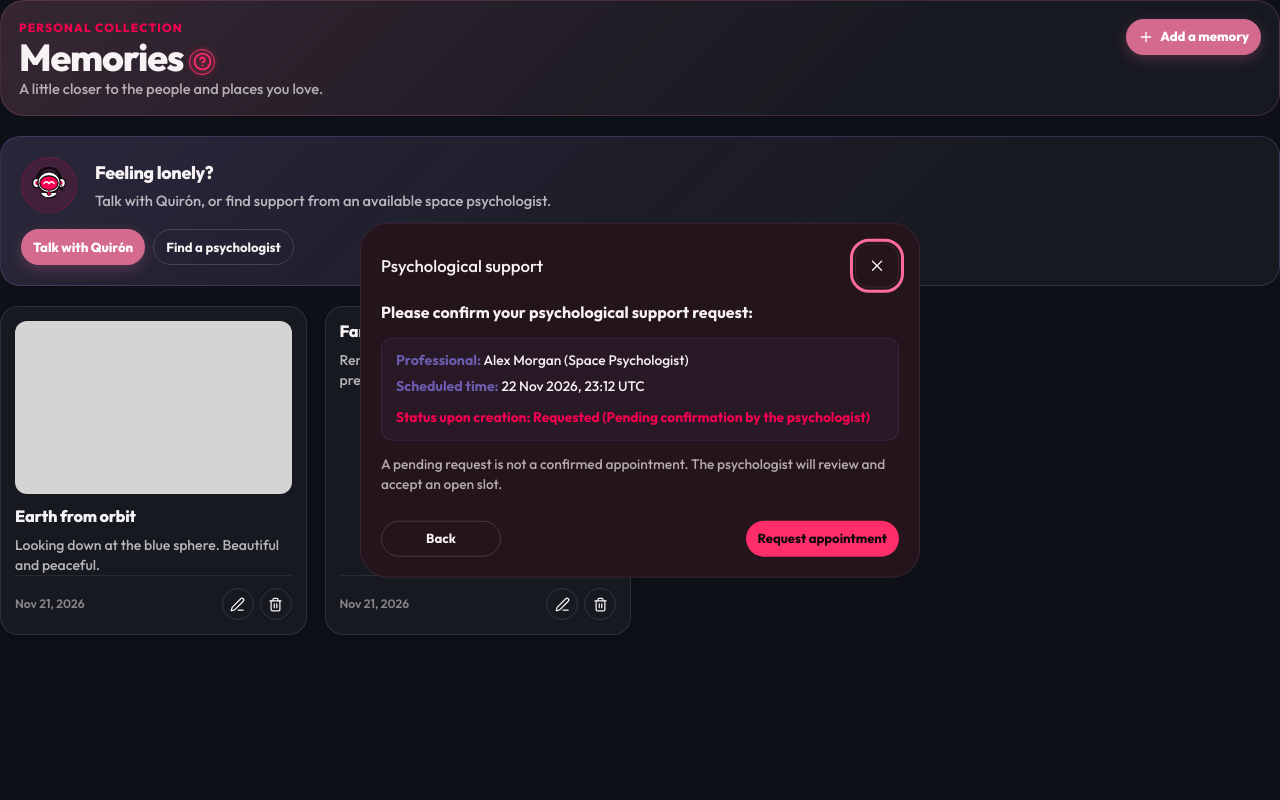
MemoriesPage › finds available psychologist, picks slot, and requests appointment with confirmation
The width and height of the screenshot is (1280, 800).
Earlier steps of the test are not shown.
Check: the text "Please confirm your psychological support request:" is shown, box [381,302,753,322]
Check: the text "Status upon creation: Requested" is shown, box [396,408,870,426]
Click the button "Request appointment" at (822,538), box [746,520,899,556]
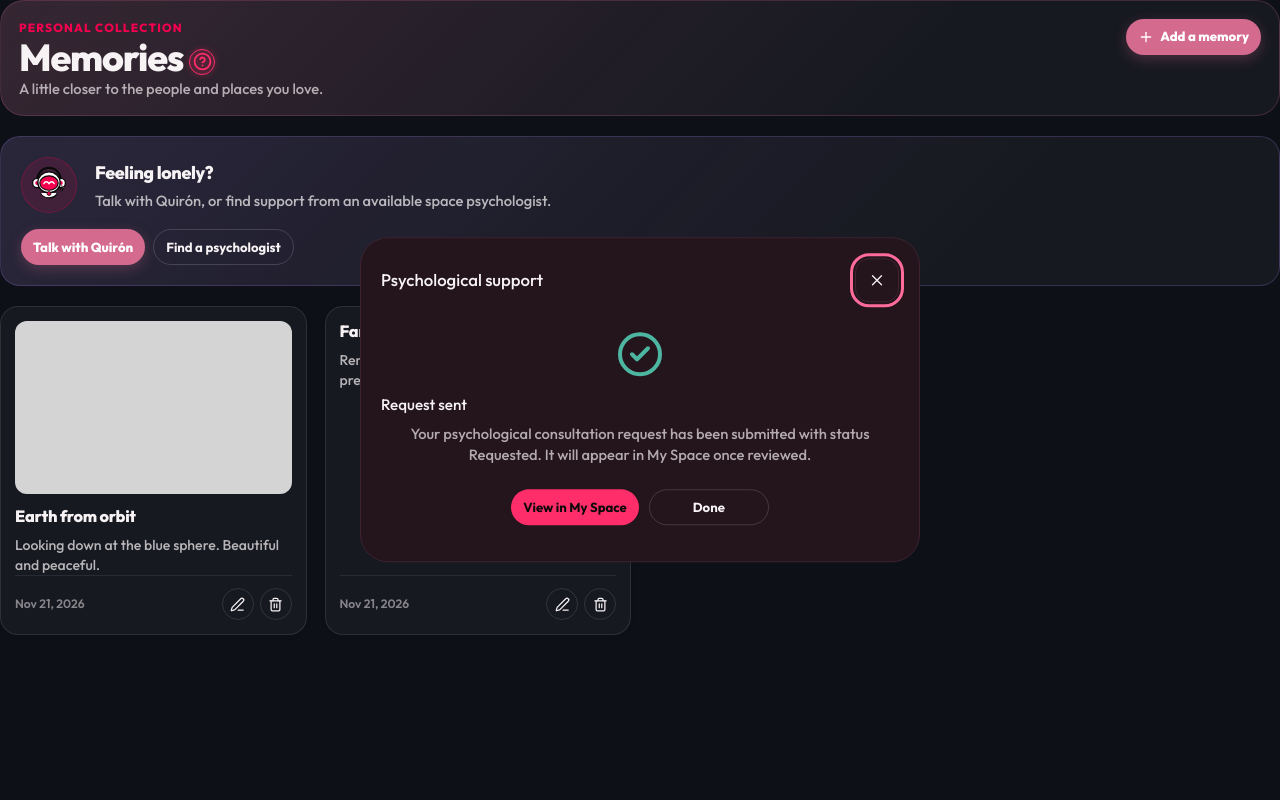
Check: the heading "Request sent" is shown, box [381,395,467,414]
